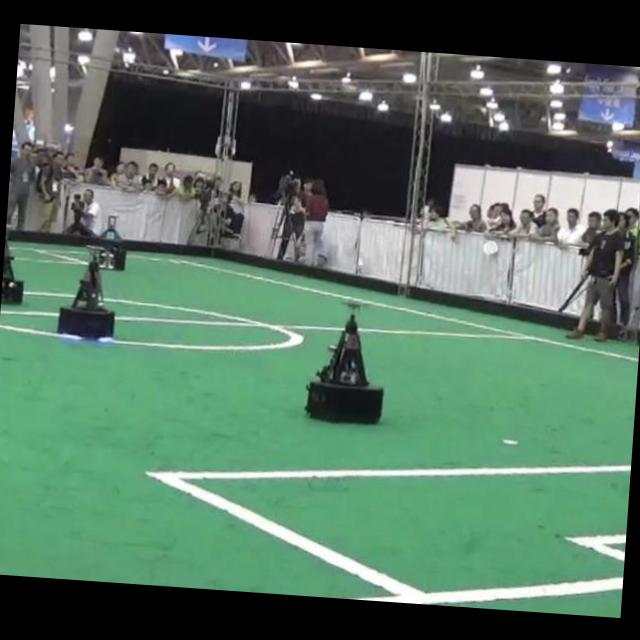robot: (305, 312, 382, 422), (57, 251, 114, 337), (87, 214, 126, 269), (1, 238, 22, 301)
